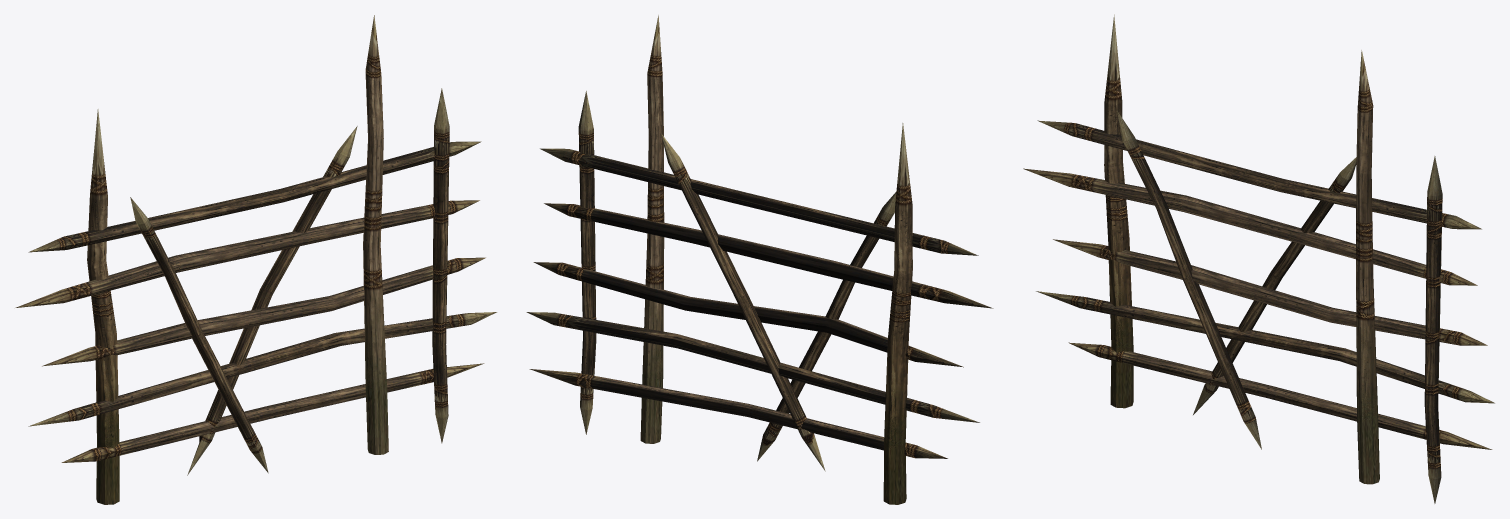
The model's file is gaint_fence04.fbx.
The picture shows the model from 3 angles, left to right: view 1: azimuth 30°, elevation 25°; view 2: azimuth 150°, elevation 25°; view 3: azimuth 330°, elevation 25°; orthographic projection. The views are drawn at different scales.
Visible parts, largest first — view 1: gaint_fence0401, gaint_fence0400; view 2: gaint_fence0401, gaint_fence0400; view 3: gaint_fence0401, gaint_fence0400.
Boxes of the visible parts, x1,y1,x2,y2 form: gaint_fence0401: (15, 88, 496, 475); gaint_fence0400: (87, 15, 388, 504); gaint_fence0401: (526, 91, 993, 471); gaint_fence0400: (640, 15, 912, 504); gaint_fence0401: (1023, 110, 1494, 503); gaint_fence0400: (1104, 14, 1379, 484).
Bounding box in the file's own units: 10.34 × 9.2 × 0.8695.
